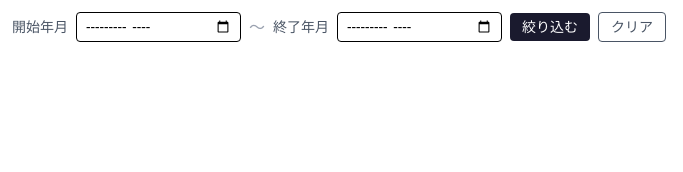
Test: DateRangeFilter › to のみ入力で from が空のとき submit ボタンが disabled になること
In the field labelled "終了年月": (420, 27) top-left (337, 12), bottom-right (502, 42), type "2024-06"
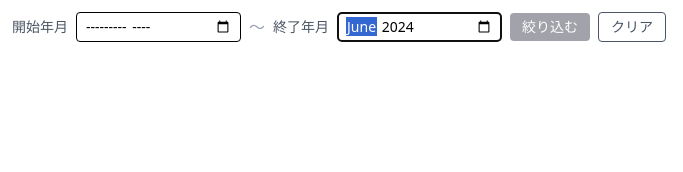
Check: the button "絞り込む" is disabled, box top-left (510, 13), bottom-right (590, 41)
